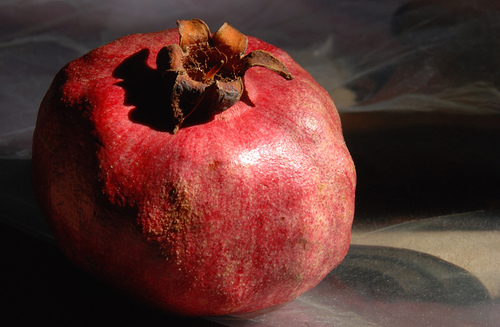pomogranate: (28, 24, 353, 321)
